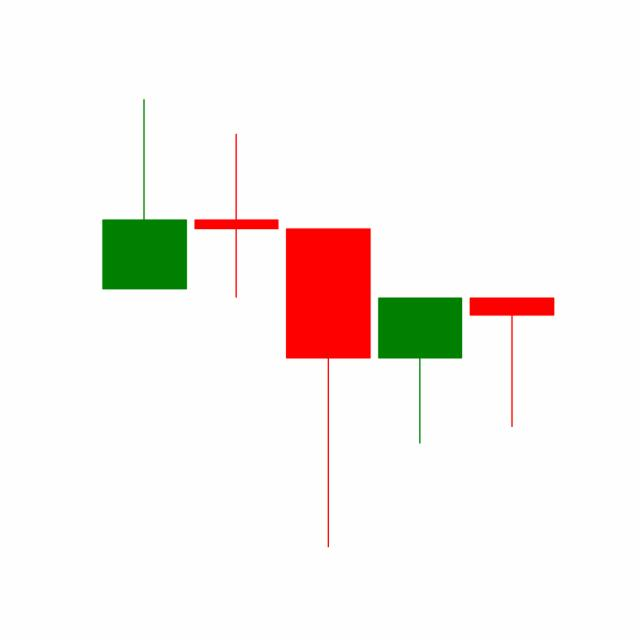Hanging Man: (464, 296, 558, 428)
